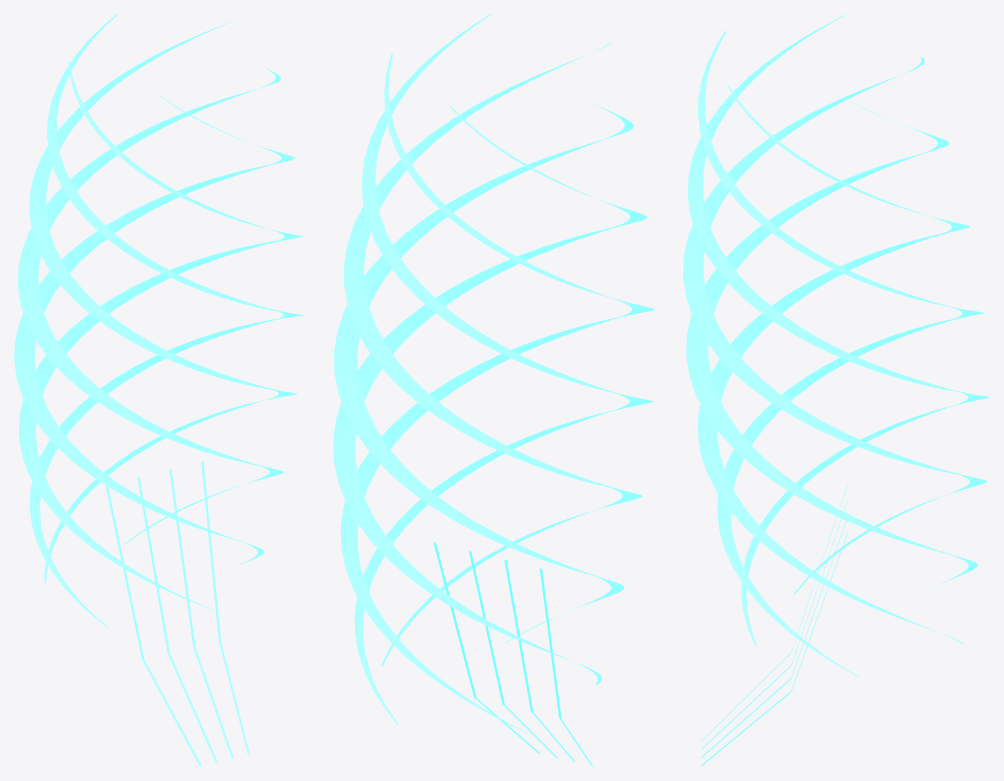
Rendered from qi-boost.glb.
The picture shows the model from 3 angles, left to right: view 1: azimuth 30°, elevation 25°; view 2: azimuth 150°, elevation 25°; view 3: azimuth 270°, elevation 25°; orthographic projection. The views are drawn at different scales.
Parts seen in each view (by area): view 1: qi-boost_energy; view 2: qi-boost_energy; view 3: qi-boost_energy.
Boxes of the visible parts, box(x1,y1,x2,y2) form: qi-boost_energy: box(14, 14, 304, 766); qi-boost_energy: box(333, 14, 654, 766); qi-boost_energy: box(683, 14, 989, 766).
Size of the model in its own units: 1.33 by 3.4 by 1.36.
